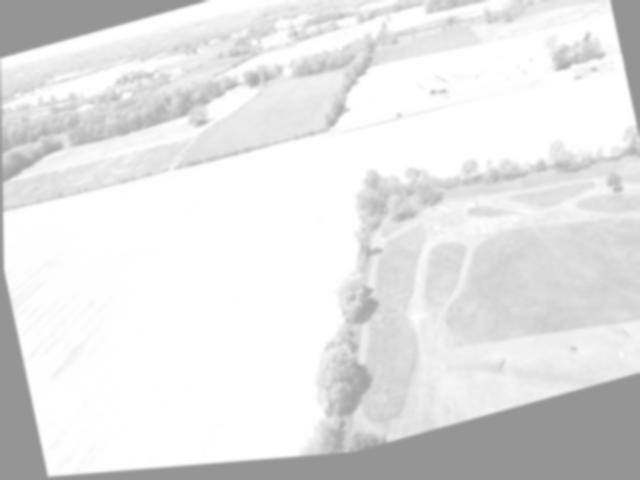hedef: (277, 201, 359, 257)
